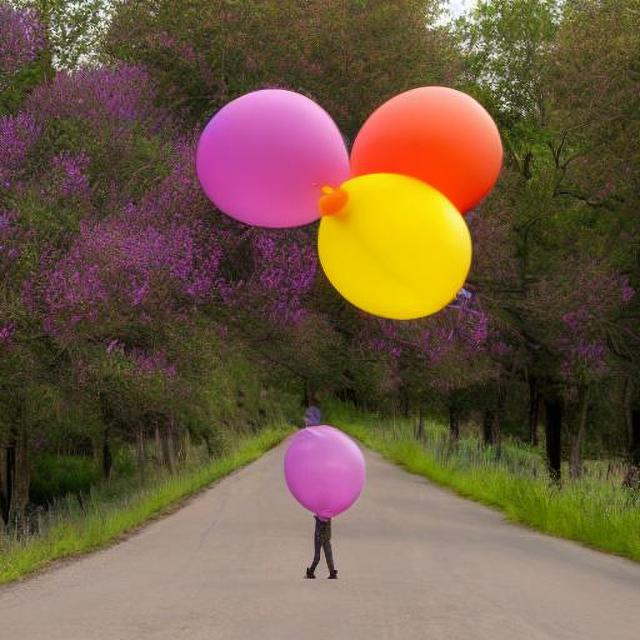balloon: (315, 85, 504, 266), (313, 171, 475, 322), (186, 86, 344, 230), (274, 419, 366, 515)
